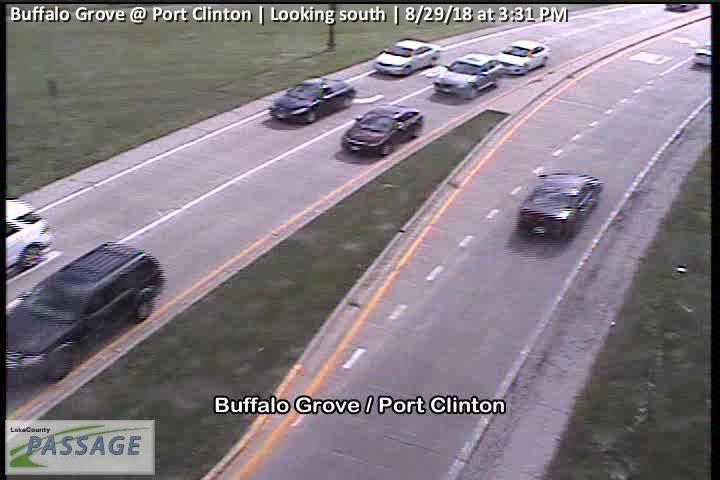SUV: (5, 242, 166, 385)
Sedan: (518, 171, 602, 236), (341, 105, 423, 156), (270, 77, 355, 124), (6, 201, 55, 279), (433, 53, 501, 98), (373, 39, 440, 77), (499, 38, 550, 74), (693, 39, 711, 66)
